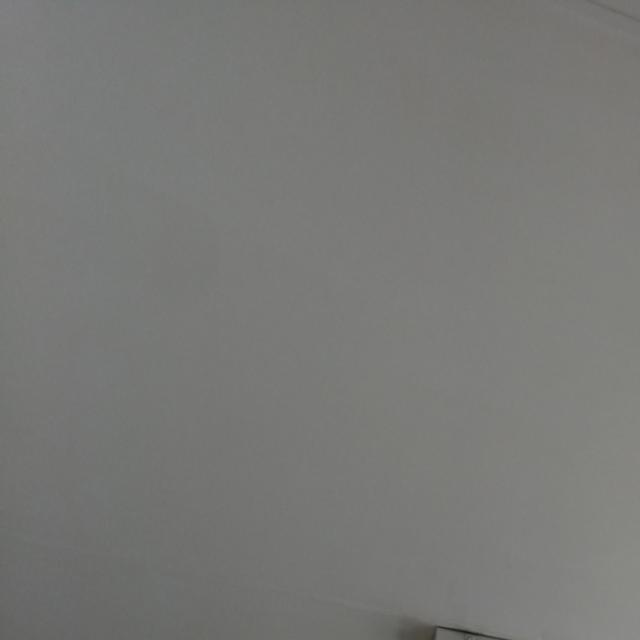fluorescent tube: (377, 576, 640, 640)
